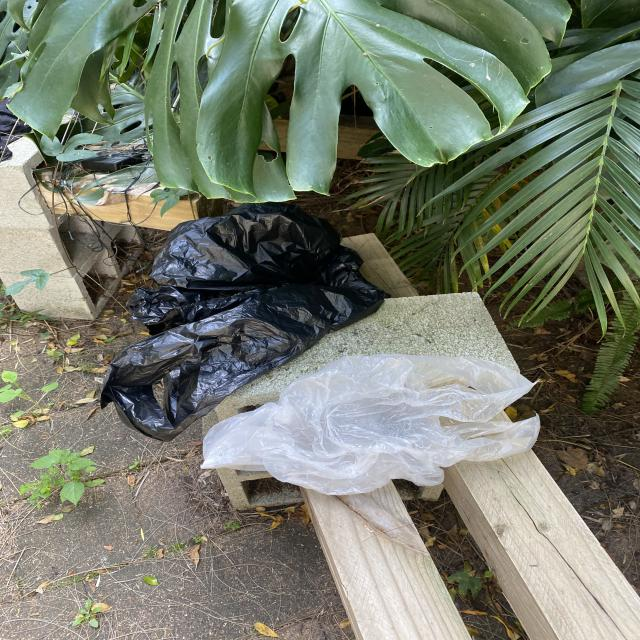bag: (99, 203, 389, 441), (200, 356, 542, 495)
